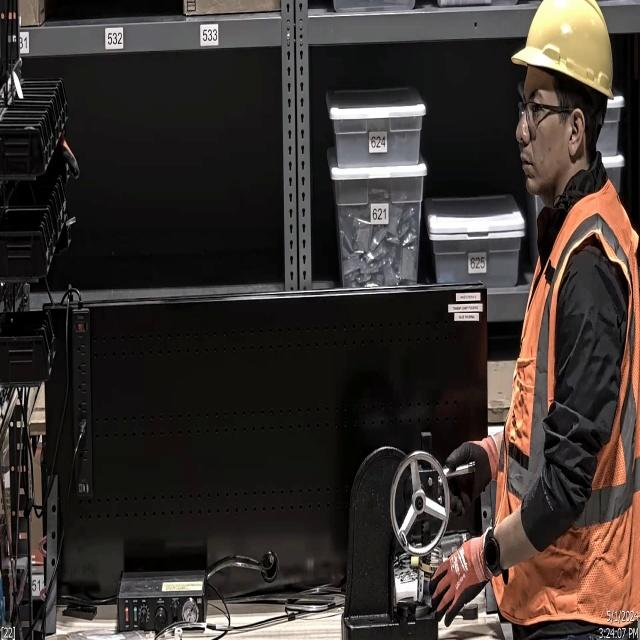gloves: (418, 533, 492, 624), (440, 438, 498, 520)
